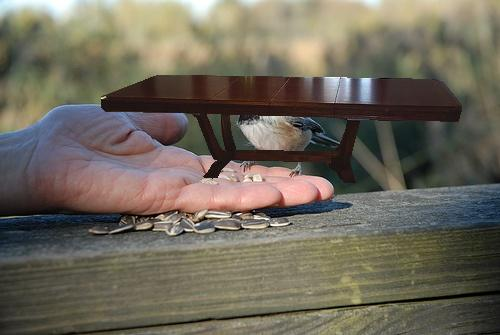tampered: (102, 76, 462, 183)
